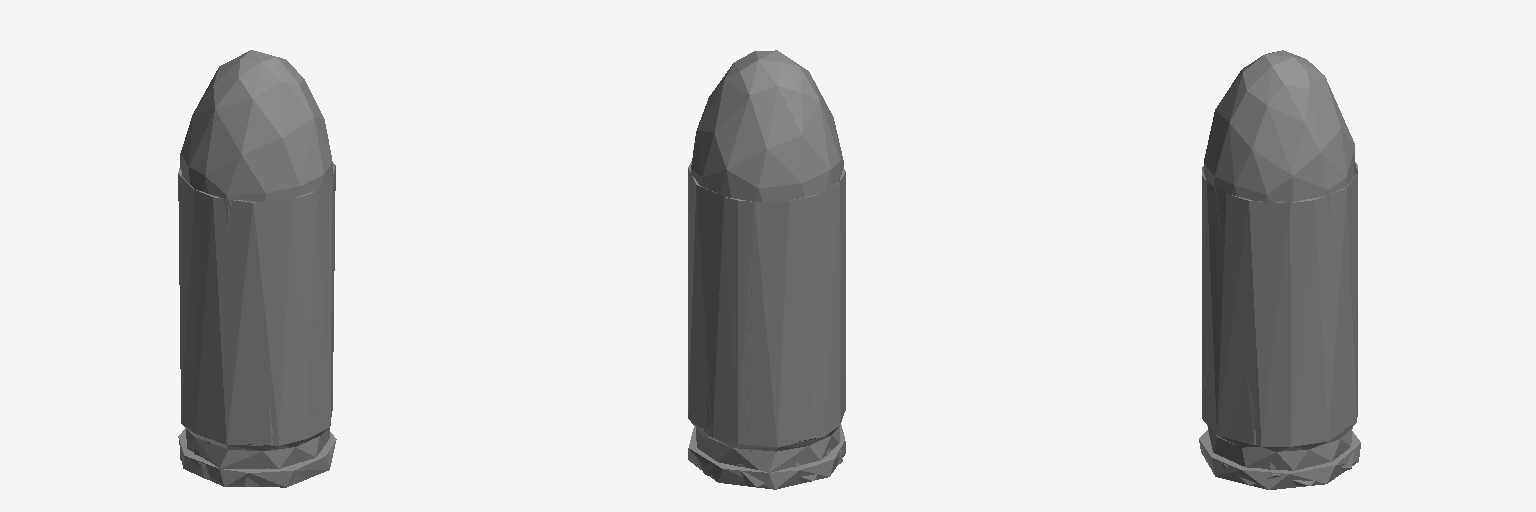
Rendered from bullet.obj.
The picture shows the model from 3 angles: view 1: azimuth 30°, elevation 25°; view 2: azimuth 150°, elevation 25°; view 3: azimuth 270°, elevation 25°; orthographic projection.
Visible parts, largest first — view 1: bullet; view 2: bullet; view 3: bullet.
Boxes of the visible parts, box(x1,y1,x2,y2) form: bullet: box(178, 50, 336, 487); bullet: box(688, 50, 845, 489); bullet: box(1199, 50, 1360, 489).
Bounding box in the file's own units: 2.64 × 7.29 × 2.68.